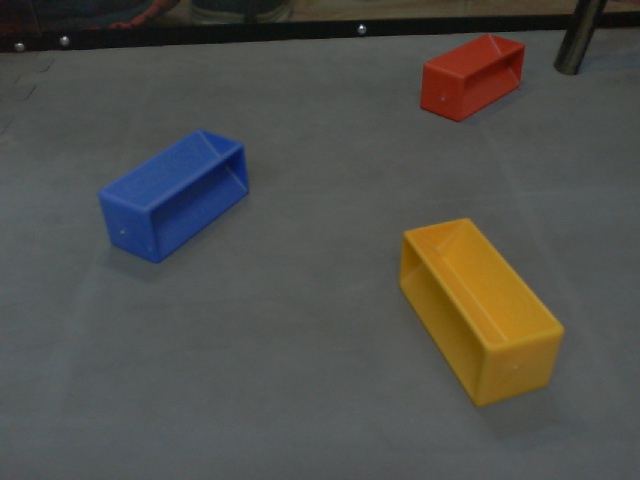BlueSample: (96, 126, 250, 264)
RedSample: (417, 32, 527, 125)
YellowSample: (396, 214, 566, 410)
